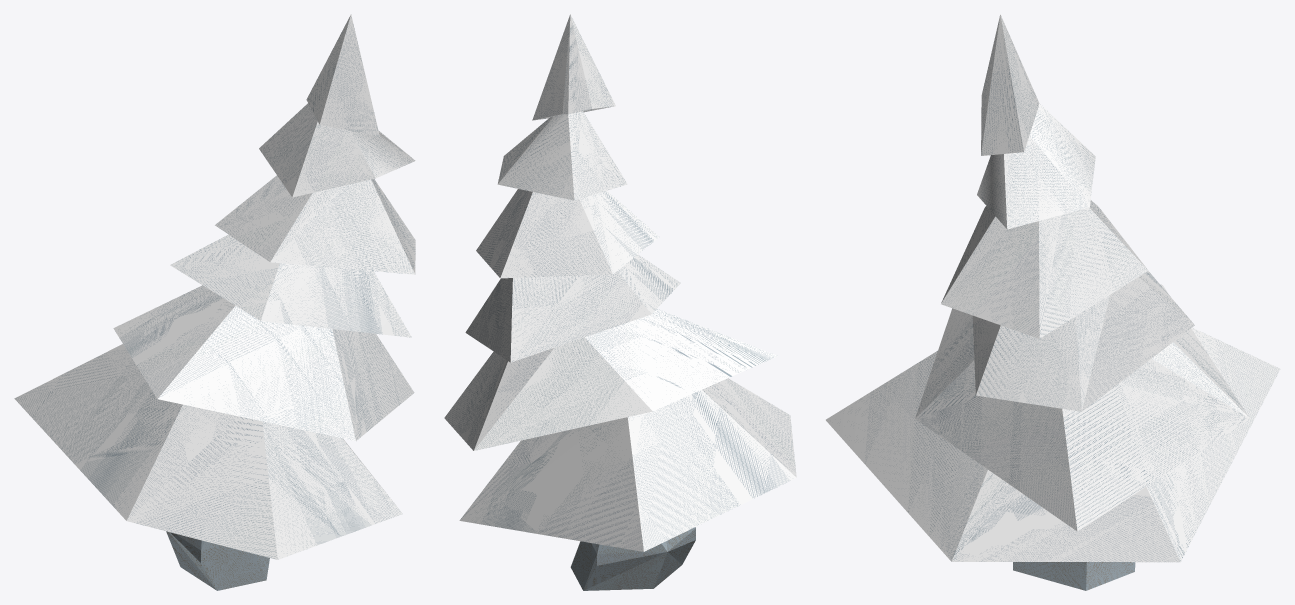
Rendered from Tree_Pine_Snow_03.fbx.
3 views of the same model, side by side, from view 1: azimuth 30°, elevation 25°; view 2: azimuth 150°, elevation 25°; view 3: azimuth 270°, elevation 25° (orthographic). The views are drawn at different scales.
Visible parts, largest first — view 1: Model; view 2: Model; view 3: Model.
Part boxes in pixels (box(x1,y1,x2,y2)): Model: box(14, 14, 415, 590); Model: box(444, 14, 796, 590); Model: box(826, 14, 1280, 590).
Bounding box in the file's own units: 1266 × 2009 × 1386.
